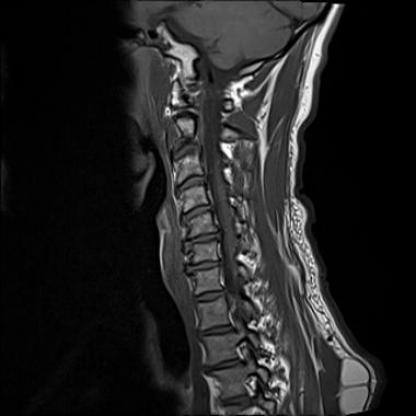Disc Bulgerotation: (182, 231, 225, 249), (179, 204, 216, 221), (184, 258, 224, 273), (173, 176, 208, 193), (169, 143, 202, 159)
Disc Protrusionrotation: (182, 231, 225, 249), (179, 204, 215, 221), (184, 258, 224, 273), (169, 143, 202, 159)
